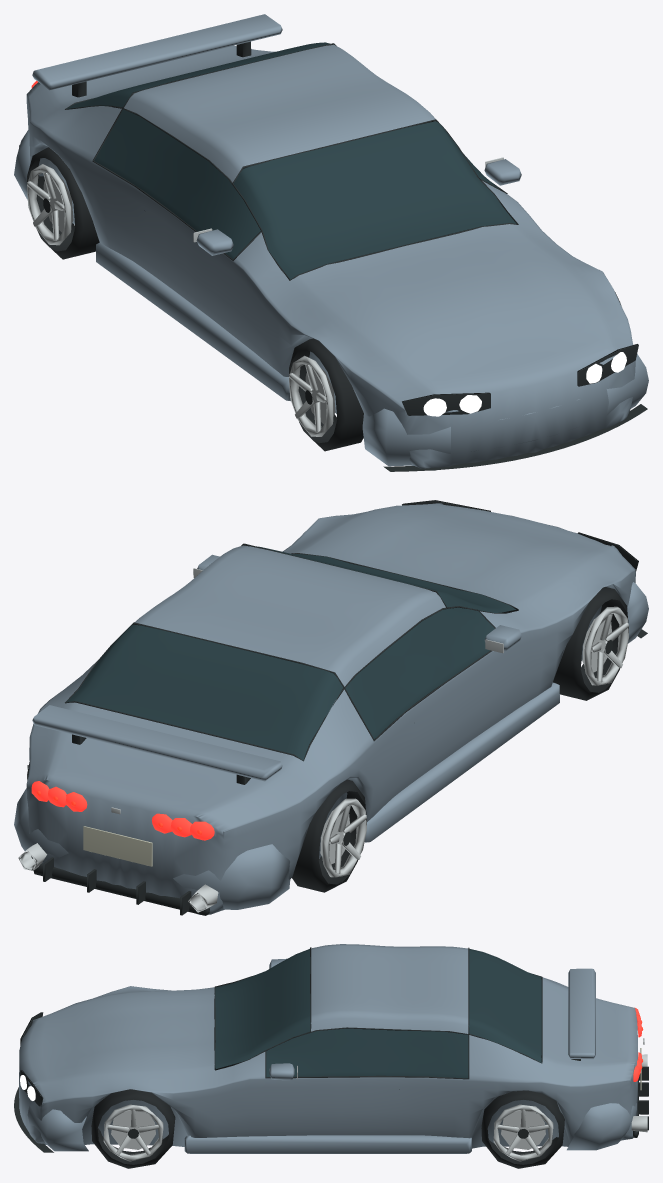
Rendered from lethari-vostel.glb.
The picture shows the model from 3 angles, top to bottom: view 1: azimuth 30°, elevation 25°; view 2: azimuth 150°, elevation 25°; view 3: azimuth 270°, elevation 25°; orthographic projection. The views are drawn at different scales.
Parts seen in each view (by area): view 1: scocca, cofano, cristallo_ant, tetto, porta_sx, cristallo_sx, spoiler, minigonna_sx, paraurti_ant, ruota_ant_sx_gomma, portellone, ruota_post_sx_gomma (+14 smaller); view 2: scocca, tetto, cristallo_post, cofano, portellone, porta_sx, cristallo_sx, spoiler, paraurti_post, minigonna_sx, ruota_ant_sx_gomma, ruota_post_sx_gomma (+11 smaller); view 3: scocca, cofano, tetto, porta_dx, cristallo_dx, cristallo_ant, cristallo_post, portellone, minigonna_dx, spoiler, ruota_ant_dx_gomma, paraurti_post (+13 smaller).
Boxes of the visible parts, <box> form: scocca: <box>26,82,635,470</box>; cofano: <box>290,224,613,385</box>; cristallo_ant: <box>233,121,516,279</box>; tetto: <box>124,44,435,182</box>; porta_sx: <box>92,162,248,347</box>; cristallo_sx: <box>94,109,260,258</box>; spoiler: <box>32,14,282,90</box>; minigonna_sx: <box>96,242,290,401</box>; paraurti_ant: <box>362,354,648,466</box>; ruota_ant_sx_gomma: <box>289,338,363,451</box>; portellone: <box>45,45,275,109</box>; ruota_post_sx_gomma: <box>27,147,99,259</box>; scocca: <box>26,503,635,914</box>; tetto: <box>135,545,445,686</box>; cristallo_post: <box>66,624,343,760</box>; cofano: <box>293,504,613,609</box>; portellone: <box>41,702,302,820</box>; porta_sx: <box>367,643,518,821</box>; cristallo_sx: <box>345,607,494,738</box>; spoiler: <box>32,705,282,781</box>; paraurti_post: <box>14,788,290,909</box>; minigonna_sx: <box>364,682,559,842</box>; ruota_ant_sx_gomma: <box>553,587,628,700</box>; ruota_post_sx_gomma: <box>292,779,366,892</box>; scocca: <box>19,977,637,1148</box>; cofano: <box>42,987,214,1085</box>; tetto: <box>311,944,468,1033</box>; porta_dx: <box>250,1077,468,1137</box>; cristallo_dx: <box>266,1028,468,1078</box>; cristallo_ant: <box>215,949,310,1069</box>; cristallo_post: <box>468,948,541,1062</box>; portellone: <box>542,977,637,1070</box>; minigonna_dx: <box>184,1135,471,1153</box>; spoiler: <box>568,968,595,1059</box>; ruota_ant_dx_gomma: <box>91,1089,175,1168</box>; paraurti_post: <box>567,1103,636,1150</box>.
Size of the model in its own units: 2.15 by 1.24 by 5.11.
